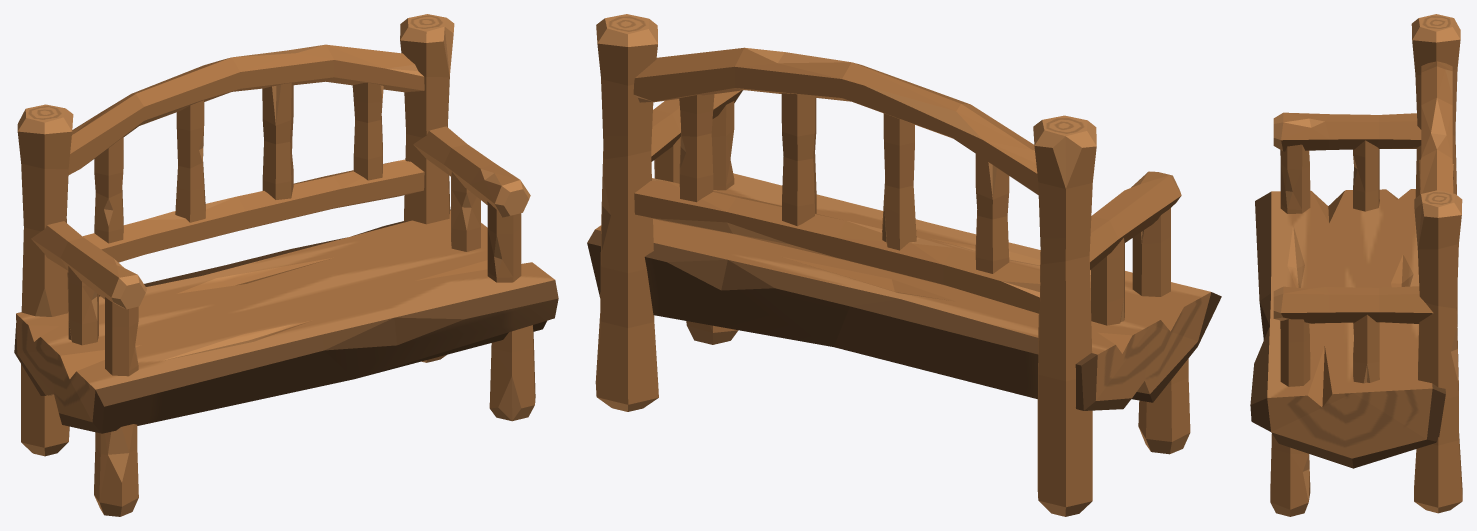
File: park_bench_1_v4.glb
3 renders of one model, left to right at view 1: azimuth 30°, elevation 25°; view 2: azimuth 150°, elevation 25°; view 3: azimuth 270°, elevation 25°, orthographic. The views are drawn at different scales.
Parts seen in each view (by area): view 1: SM_Prop_Bench_01; view 2: SM_Prop_Bench_01; view 3: SM_Prop_Bench_01.
Boxes of the visible parts, x1,y1,x2,y2 form: SM_Prop_Bench_01: (14,14,558,516); SM_Prop_Bench_01: (587,14,1221,516); SM_Prop_Bench_01: (1250,14,1462,516).
Size of the model in its own units: 1.7 by 1.23 by 0.738.
Materials: 1 (1 with a texture image).
